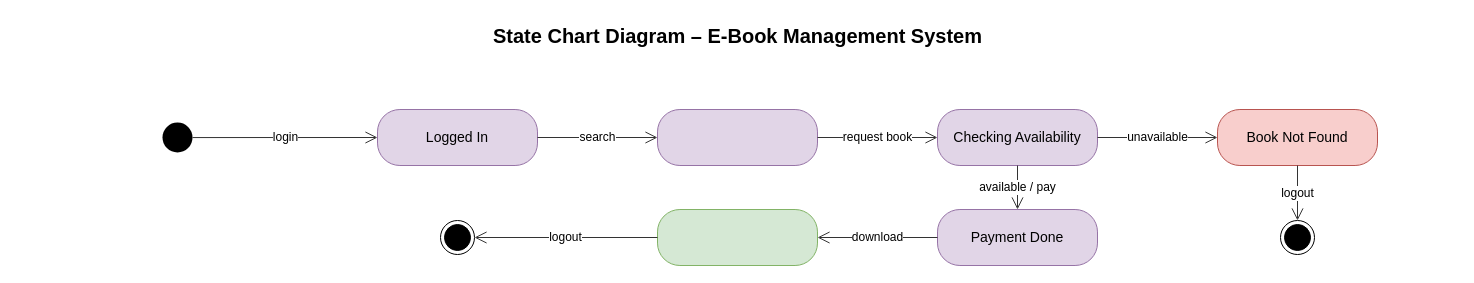
Some shapes in this 1474 by 283 pixel diagram are drawn without their labels. Each missing label, with the centre of its shape:
"Downloaded" goes at point (737, 237).
"Searching" goes at point (737, 137).
